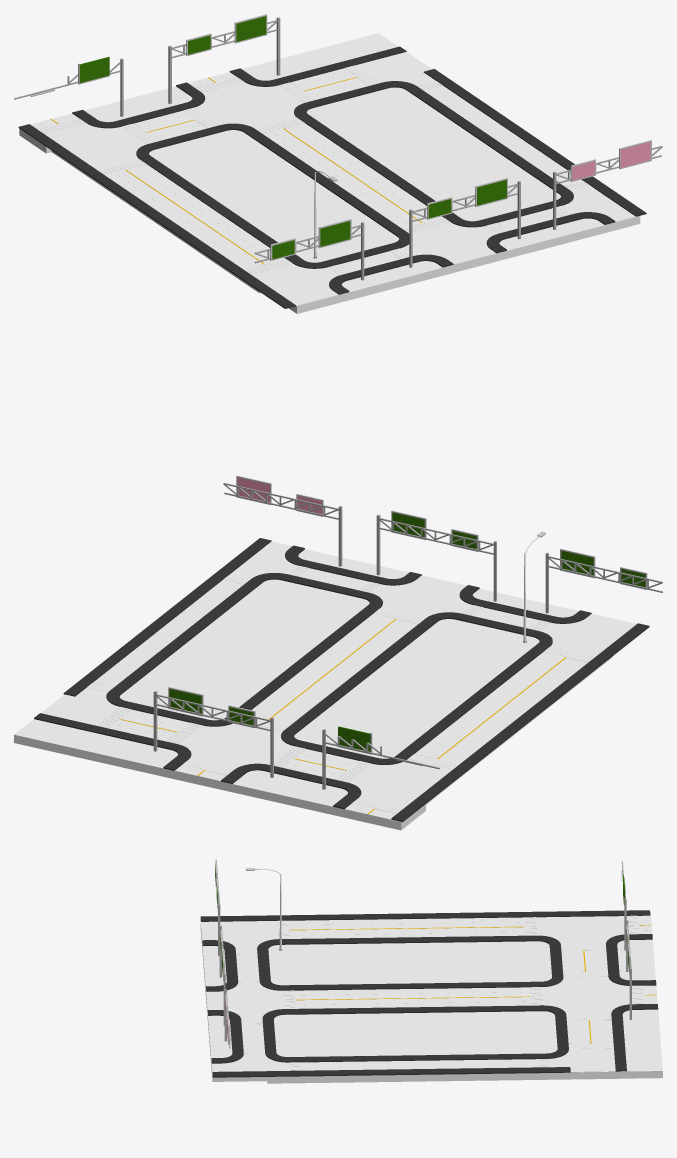
File: mdl-ground.glb
3 views of the same model, one above another, from view 1: azimuth 30°, elevation 25°; view 2: azimuth 150°, elevation 25°; view 3: azimuth 270°, elevation 25° (orthographic). The views are drawn at different scales.
Visible parts, largest first — view 1: box.002, box.3313, box.3361, box.3265, box.4820, box.001, box.3275, box.3685, box.3272, box.3276, box.3274, box.3277 (+4 smaller); view 2: box.002, box.3313, box.3361, box.001, box.3265, box.3275, box.3685, box.3272, box.3276, box.4820, box.3274, box.3277 (+12 smaller); view 3: box.002, box.3361, box.3313, box.3265, box.001, box.3275, box.3685, box.4820, box.3276, box.3272, box.3273, box.3271 (+4 smaller).
Part boxes in pixels (x1,y1,x2,y2): box.002: [51, 87, 560, 293]; box.3313: [30, 113, 338, 305]; box.3361: [188, 72, 496, 264]; box.3265: [58, 52, 431, 161]; box.4820: [289, 216, 640, 313]; box.001: [19, 33, 398, 153]; box.3275: [403, 72, 635, 222]; box.3685: [276, 200, 595, 289]; box.3272: [74, 161, 263, 286]; box.3276: [423, 69, 614, 194]; box.3274: [244, 128, 407, 236]; box.3277: [406, 86, 569, 193]; box.002: [119, 579, 612, 804]; box.3313: [345, 614, 636, 819]; box.3361: [175, 575, 466, 781]; box.001: [14, 719, 425, 830]; box.3265: [41, 694, 439, 798]; box.3275: [75, 541, 292, 701]; box.3685: [252, 557, 581, 638]; box.3272: [442, 647, 619, 781]; box.3276: [63, 562, 241, 696]; box.4820: [298, 549, 578, 617]; box.3274: [284, 618, 437, 733]; box.3277: [110, 578, 262, 694]; box.002: [267, 941, 621, 1083]; box.3361: [206, 985, 657, 1010]; box.3313: [201, 915, 652, 940]; box.3265: [559, 916, 615, 1072]; box.001: [617, 912, 662, 1078]; box.3275: [212, 1058, 570, 1071]; box.3685: [235, 926, 265, 1063]; box.4820: [200, 923, 267, 1081]; box.3276: [266, 1067, 570, 1076]; box.3272: [254, 911, 558, 921]; box.3273: [284, 1005, 543, 1014]; box.3271: [279, 935, 537, 944].
Size of what is drawn, in the model's own units: 392 by 190 by 576.
